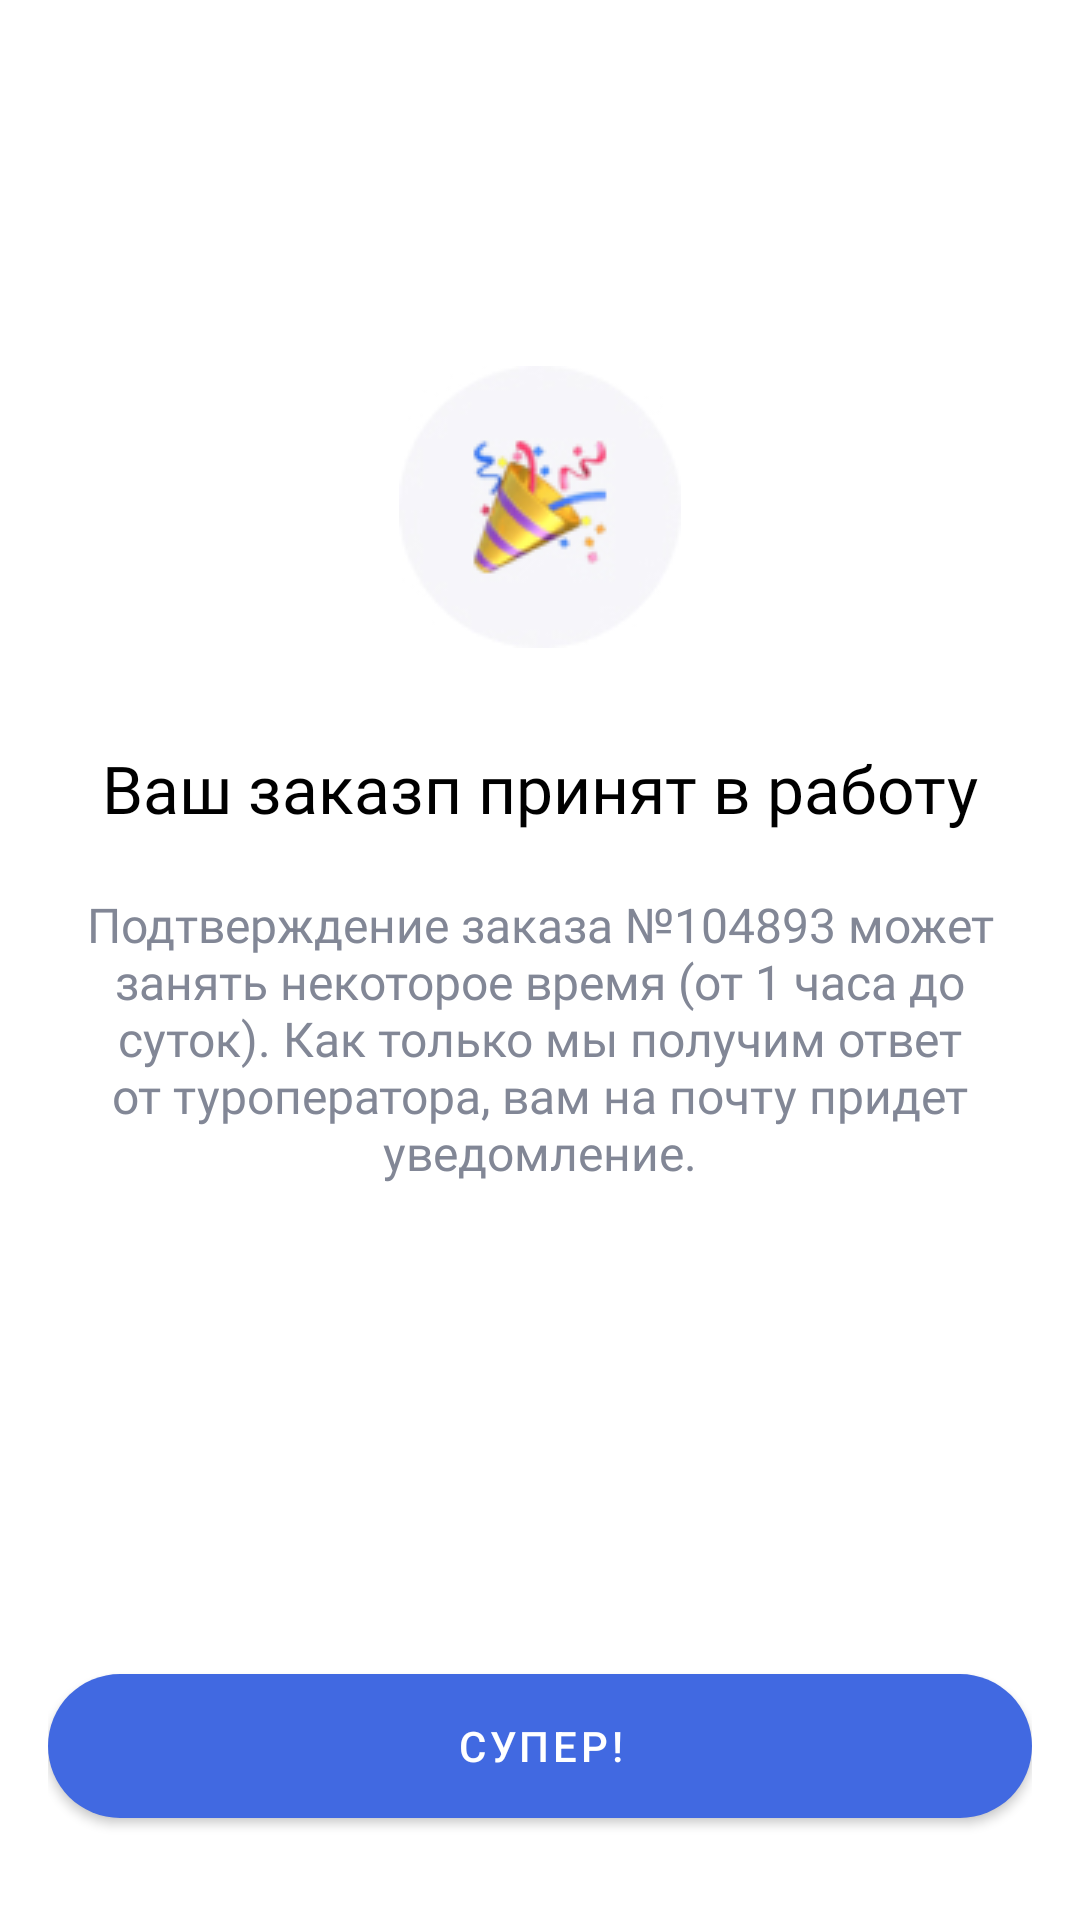

Point at icon controls on the screen. Image size 1080 × 1920, points as (x=x, y=y).
party popper: (x=540, y=507)
